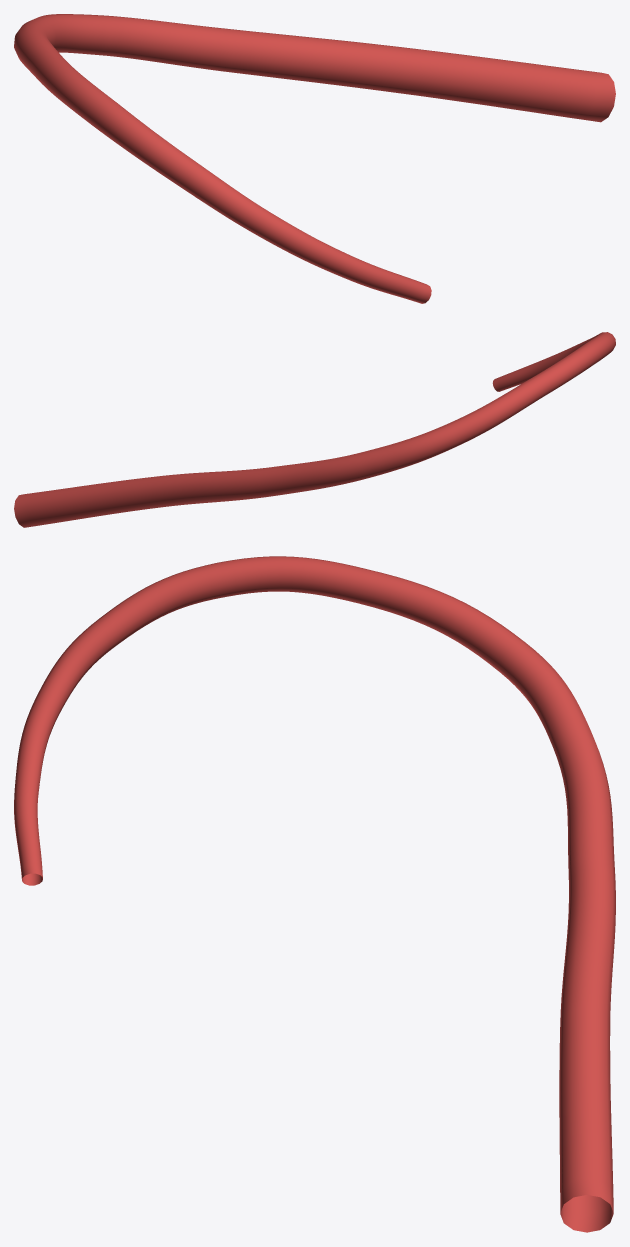
3 views of the same model, one above another, from view 1: azimuth 30°, elevation 25°; view 2: azimuth 150°, elevation 25°; view 3: azimuth 270°, elevation 25° (orthographic). The views are drawn at different scales.
Visible parts, largest first — view 1: 回结肠动脉结肠支; view 2: 回结肠动脉结肠支; view 3: 回结肠动脉结肠支.
Part boxes in pixels (x1,y1,x2,y2): 回结肠动脉结肠支: (14, 14, 615, 303); 回结肠动脉结肠支: (14, 332, 615, 527); 回结肠动脉结肠支: (14, 556, 615, 1232).
Bounding box in the file's own units: 0.07 × 0.0302 × 0.0496.
